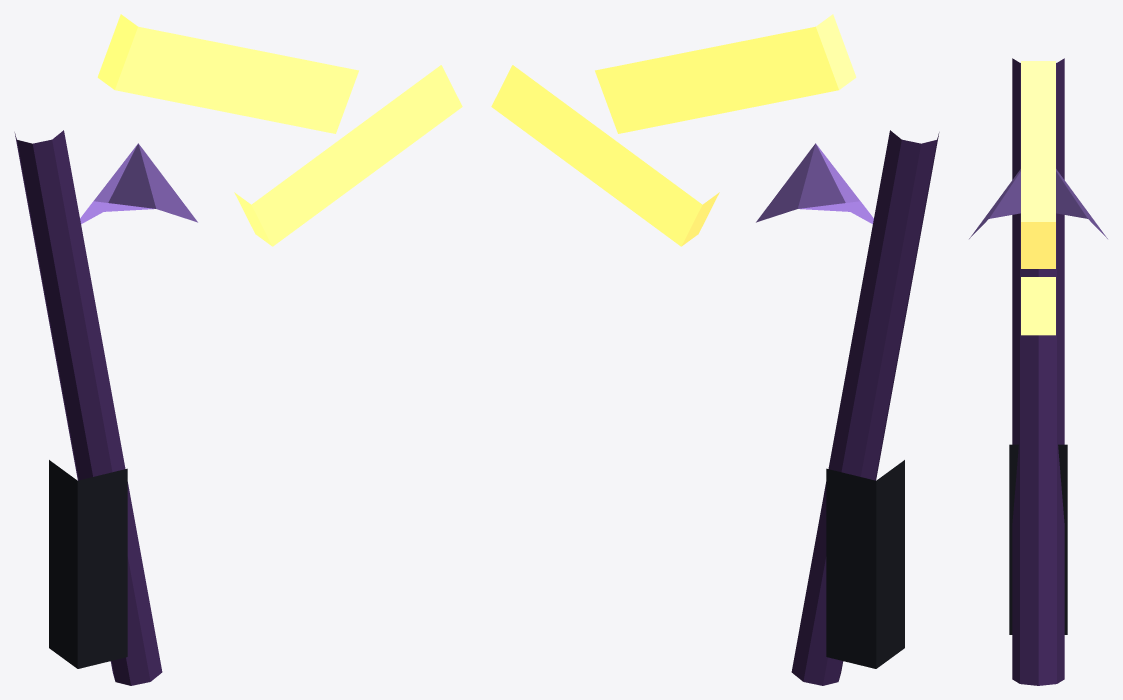
Rendered from scythe-of-vyse.glb.
3 renders of one model, left to right at view 1: azimuth 30°, elevation 25°; view 2: azimuth 150°, elevation 25°; view 3: azimuth 270°, elevation 25°, orthographic.
Visible parts, largest first — view 1: scythe-of-vyse-shaft, scythe-of-vyse-crescent-back, scythe-of-vyse-grip-wrap, scythe-of-vyse-crescent-hook, scythe-of-vyse-hex-gem; view 2: scythe-of-vyse-shaft, scythe-of-vyse-crescent-back, scythe-of-vyse-grip-wrap, scythe-of-vyse-crescent-hook, scythe-of-vyse-hex-gem; view 3: scythe-of-vyse-shaft, scythe-of-vyse-crescent-back, scythe-of-vyse-crescent-hook, scythe-of-vyse-grip-wrap, scythe-of-vyse-hex-gem.
Boxes of the visible parts, <box> form: scythe-of-vyse-shaft: <box>14,130,162,685</box>; scythe-of-vyse-crescent-back: <box>97,14,358,133</box>; scythe-of-vyse-grip-wrap: <box>49,460,127,668</box>; scythe-of-vyse-crescent-hook: <box>234,65,462,246</box>; scythe-of-vyse-hex-gem: <box>80,143,197,224</box>; scythe-of-vyse-shaft: <box>791,130,939,685</box>; scythe-of-vyse-crescent-back: <box>595,14,856,133</box>; scythe-of-vyse-grip-wrap: <box>826,460,904,668</box>; scythe-of-vyse-crescent-hook: <box>491,65,719,246</box>; scythe-of-vyse-hex-gem: <box>756,143,873,224</box>; scythe-of-vyse-shaft: <box>1012,58,1064,685</box>; scythe-of-vyse-crescent-back: <box>1021,61,1055,268</box>; scythe-of-vyse-crescent-hook: <box>1021,277,1055,335</box>; scythe-of-vyse-grip-wrap: <box>1009,444,1067,634</box>; scythe-of-vyse-hex-gem: <box>969,169,1107,238</box>.
Bounding box in the file's own units: 0.874 × 1.26 × 0.24.
